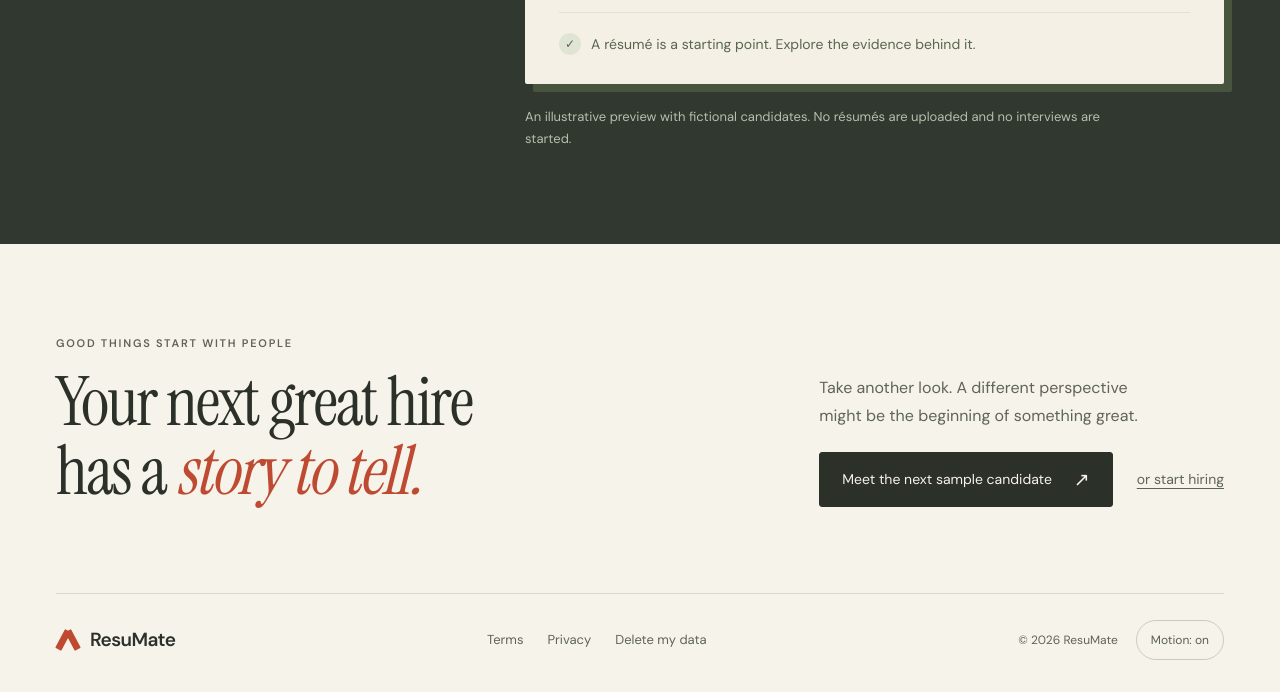
it: the motion switch › stops and restarts the page's motion, and says which
(page scrolled)
Click the button "Motion: on" at (1180, 640), box [1136, 620, 1224, 660]
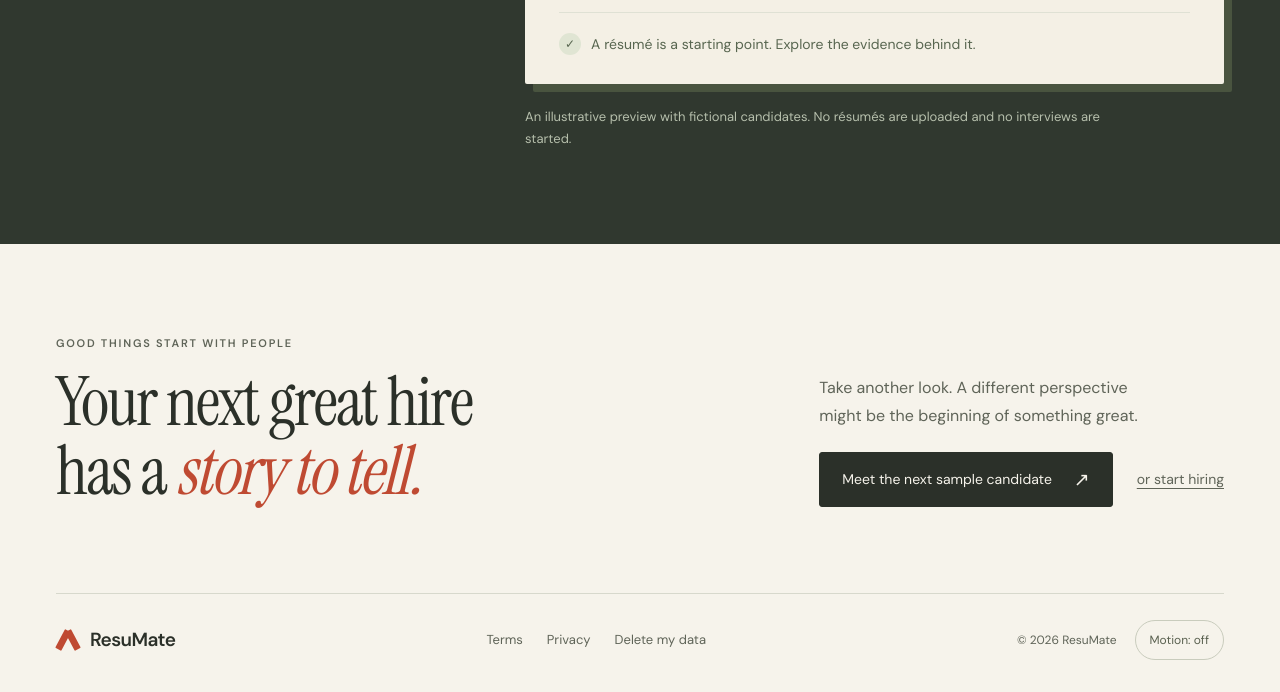
Check: the button named "Motion: on" reads "Motion: off"
Click the button named "Motion: on" at (1179, 640), box [1134, 620, 1224, 660]
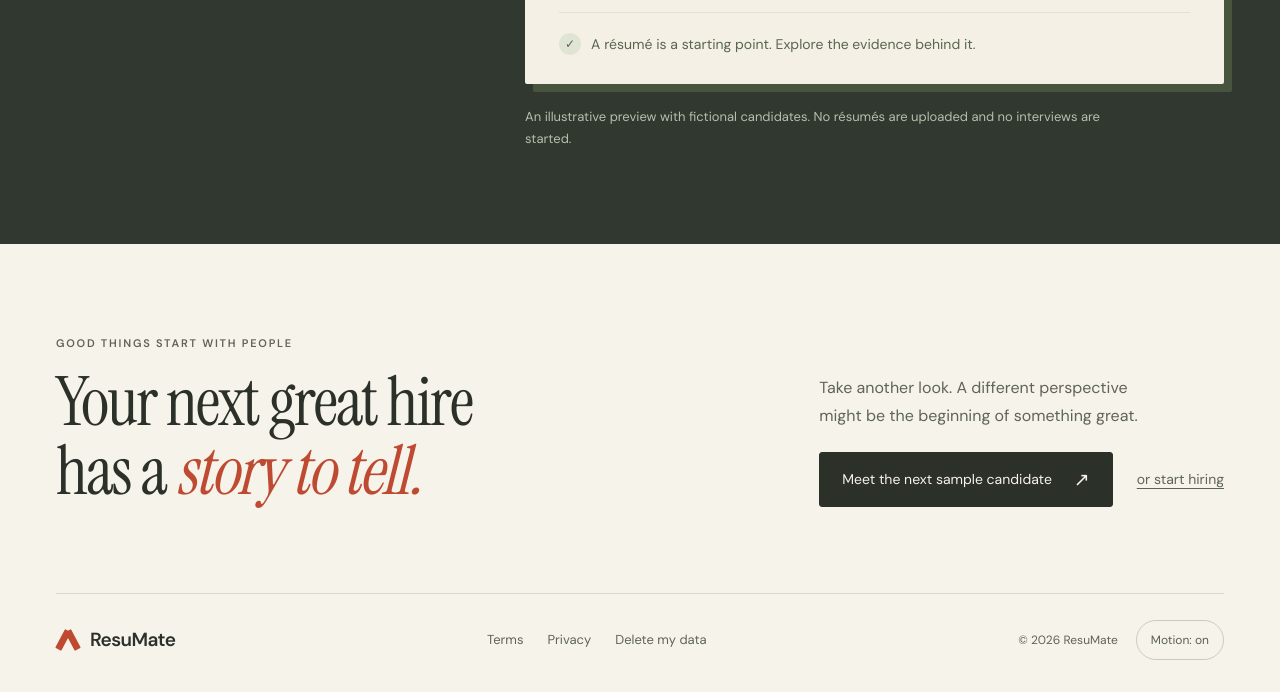
Check: the button "Motion: on" is shown, box [1136, 620, 1224, 660]
